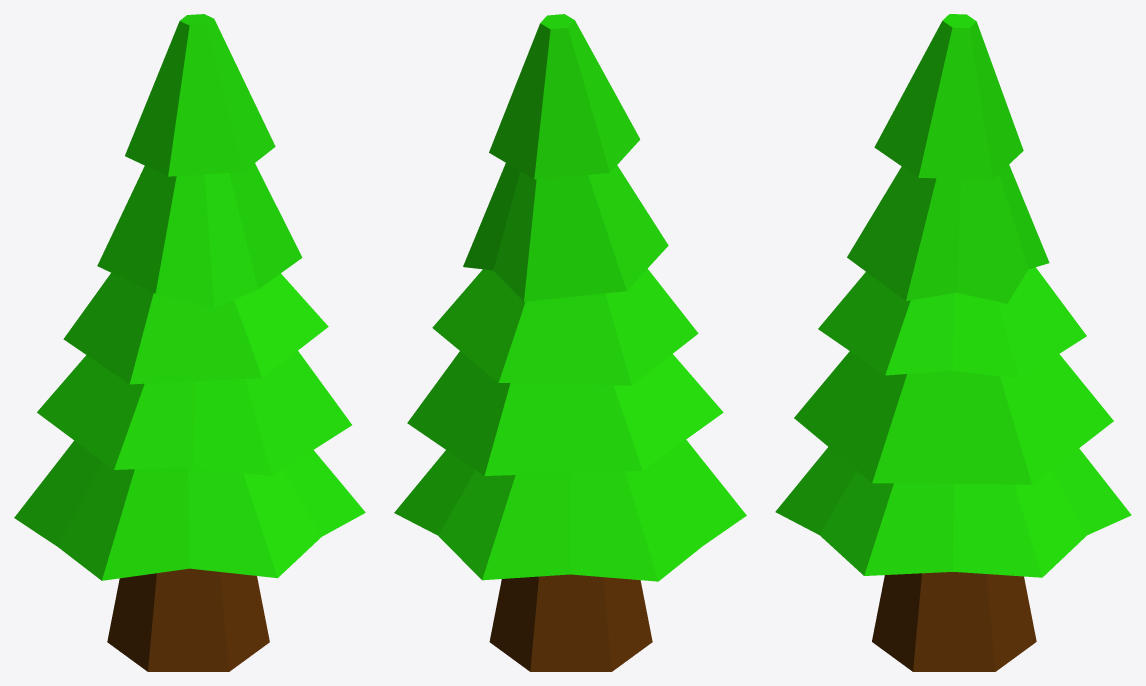
The model's file is spruce.fbx.
3 renders of one model, left to right at view 1: azimuth 30°, elevation 25°; view 2: azimuth 150°, elevation 25°; view 3: azimuth 270°, elevation 25°, orthographic.
Parts seen in each view (by area): view 1: Cylinder.001, Cylinder.002, Cylinder.004, Cylinder.003, Cylinder.005, Cylinder; view 2: Cylinder.001, Cylinder.002, Cylinder.003, Cylinder.004, Cylinder.005, Cylinder; view 3: Cylinder.002, Cylinder.001, Cylinder.004, Cylinder.003, Cylinder.005, Cylinder.
Part boxes in pixels (x1=…): Cylinder.001: x1=14, y1=440, x2=365, y2=580; Cylinder.002: x1=37, y1=351, x2=351, y2=476; Cylinder.004: x1=97, y1=163, x2=302, y2=308; Cylinder.003: x1=63, y1=273, x2=328, y2=384; Cylinder.005: x1=125, y1=14, x2=275, y2=176; Cylinder: x1=107, y1=568, x2=269, y2=671; Cylinder.001: x1=394, y1=440, x2=746, y2=581; Cylinder.002: x1=407, y1=351, x2=723, y2=475; Cylinder.003: x1=432, y1=268, x2=698, y2=385; Cylinder.004: x1=463, y1=163, x2=668, y2=301; Cylinder.005: x1=489, y1=14, x2=640, y2=179; Cylinder: x1=489, y1=574, x2=652, y2=671; Cylinder.002: x1=794, y1=351, x2=1113, y2=484; Cylinder.001: x1=775, y1=447, x2=1131, y2=577; Cylinder.004: x1=847, y1=164, x2=1049, y2=303; Cylinder.003: x1=818, y1=267, x2=1086, y2=378; Cylinder.005: x1=874, y1=14, x2=1023, y2=179; Cylinder: x1=872, y1=572, x2=1036, y2=671.
Size of the model in its own units: 380 by 839 by 433.
